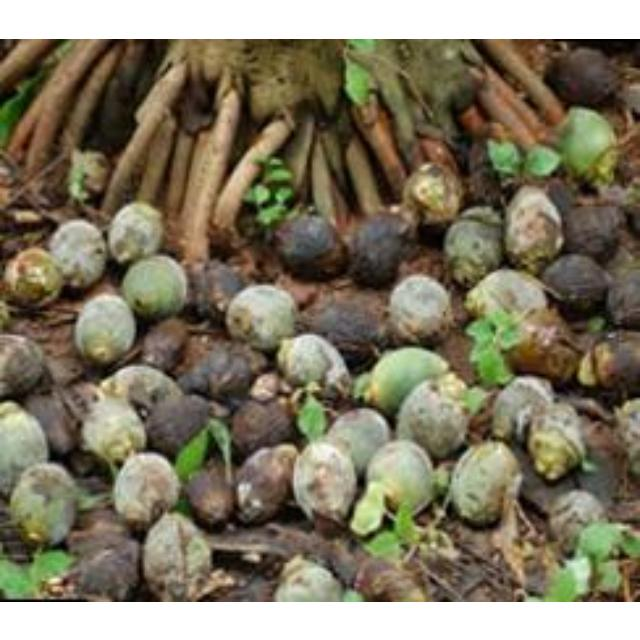damaged: (359, 439, 437, 521), (448, 440, 522, 526), (141, 511, 213, 599), (395, 378, 473, 458), (502, 306, 584, 382), (9, 462, 81, 546), (364, 346, 450, 416), (290, 438, 358, 524), (106, 447, 180, 523), (231, 443, 299, 525), (301, 294, 385, 360), (274, 212, 350, 282), (78, 391, 146, 469), (504, 184, 564, 272), (553, 106, 619, 184), (346, 212, 414, 286), (526, 401, 588, 481), (143, 389, 213, 459), (226, 284, 298, 350), (386, 274, 454, 342), (72, 534, 142, 600), (74, 292, 136, 366), (444, 211, 506, 285), (182, 340, 258, 400), (122, 255, 190, 321), (541, 252, 611, 316), (467, 268, 548, 322), (230, 394, 296, 460), (46, 219, 108, 289), (0, 405, 48, 495), (547, 46, 619, 106), (277, 332, 349, 391), (324, 408, 388, 474), (491, 374, 553, 442), (22, 387, 82, 457), (401, 161, 463, 227), (2, 246, 66, 308), (546, 488, 608, 550), (559, 200, 621, 262), (350, 553, 428, 601), (188, 260, 248, 322), (582, 330, 640, 394), (106, 363, 182, 411), (108, 202, 166, 264), (184, 462, 236, 530), (273, 556, 345, 602), (0, 332, 50, 398), (69, 503, 129, 549), (139, 316, 189, 370), (67, 148, 109, 204), (604, 266, 640, 328), (612, 399, 640, 478), (40, 350, 86, 390)
